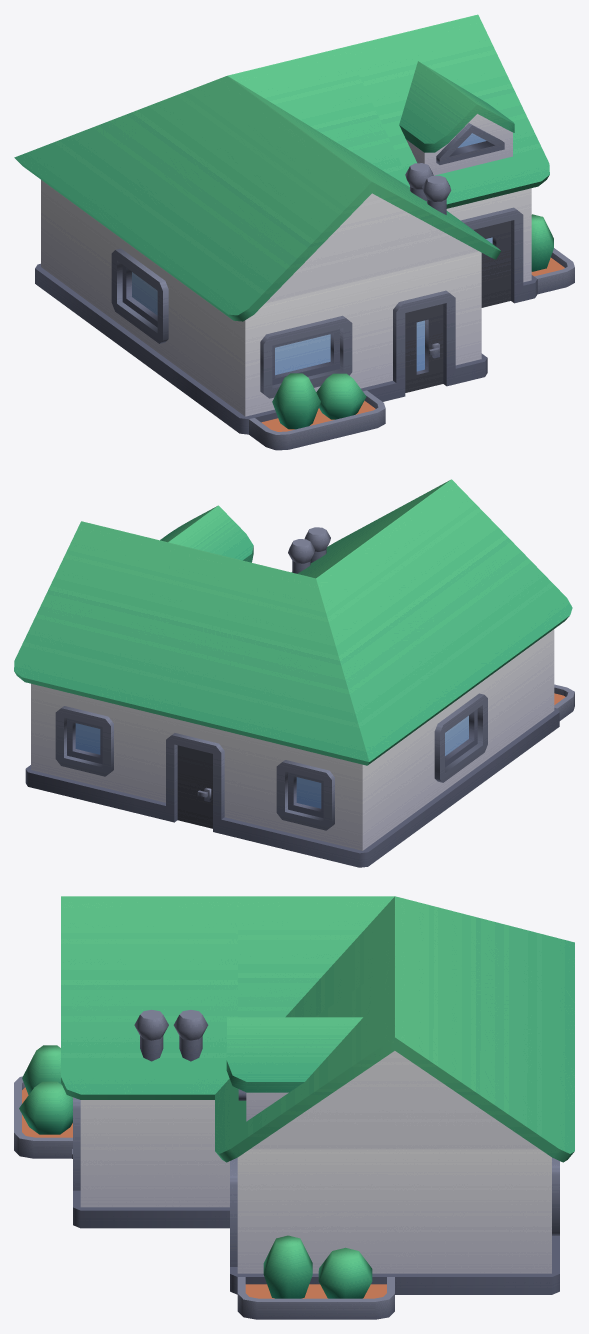
File: building-type-m.005_lev3.glb
3 renders of one model, top to bottom at view 1: azimuth 30°, elevation 25°; view 2: azimuth 150°, elevation 25°; view 3: azimuth 270°, elevation 25°, orthographic. The views are drawn at different scales.
Parts seen in each view (by area): view 1: building-type-m.005_lev3; view 2: building-type-m.005_lev3; view 3: building-type-m.005_lev3.
Part boxes in pixels (x1,y1,x2,y2): building-type-m.005_lev3: (14, 14, 574, 450); building-type-m.005_lev3: (14, 479, 574, 867); building-type-m.005_lev3: (14, 896, 574, 1319).
Bounding box in the file's own units: 5.71 × 2.95 × 5.71.
1 material, 1 textured.
